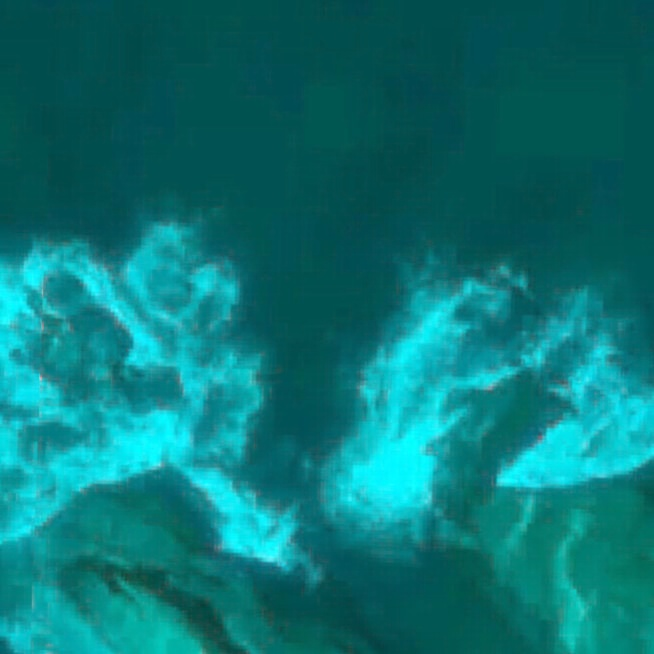rip_current: (192, 226, 407, 527)
